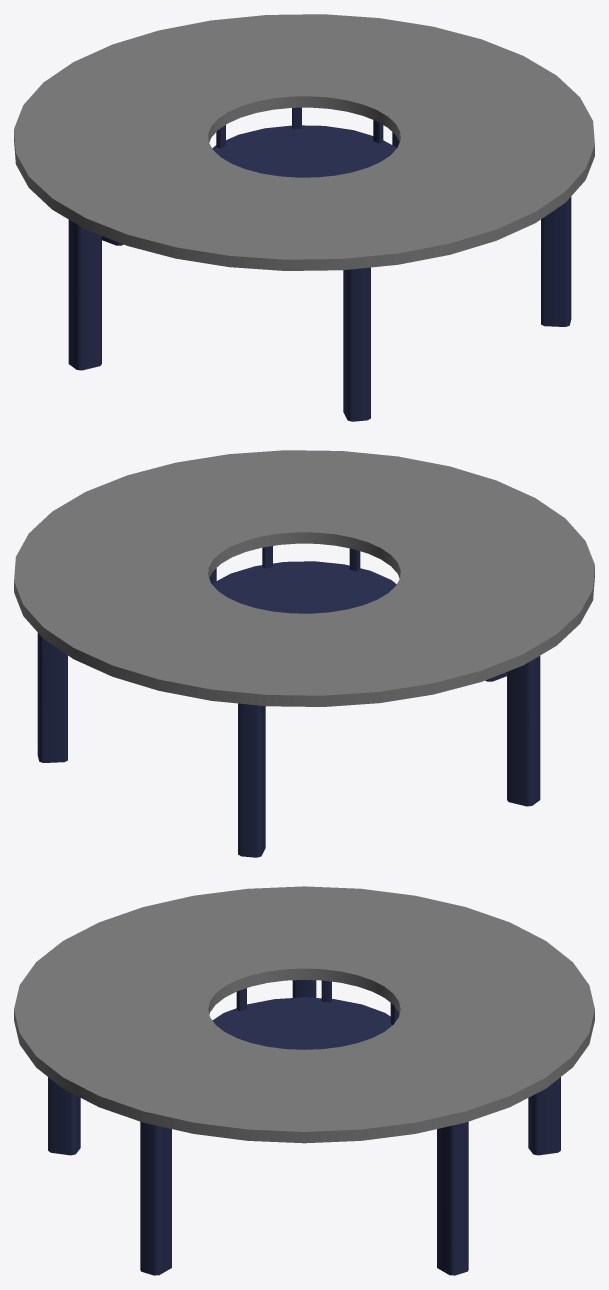
Rendered from SM_Hall_trading_table.fbx.
3 views of the same model, one above another, from view 1: azimuth 30°, elevation 25°; view 2: azimuth 150°, elevation 25°; view 3: azimuth 270°, elevation 25° (orthographic).
Parts seen in each view (by area): view 1: SM_Hall_trading_table; view 2: SM_Hall_trading_table; view 3: SM_Hall_trading_table.
Part boxes in pixels (x1=…): SM_Hall_trading_table: x1=14, y1=14, x2=594, y2=421; SM_Hall_trading_table: x1=14, y1=450, x2=594, y2=857; SM_Hall_trading_table: x1=14, y1=886, x2=594, y2=1275.
Bounding box in the file's own units: 296 × 97.45 × 296.
